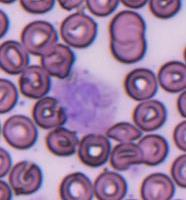N: (58, 72, 118, 136)
